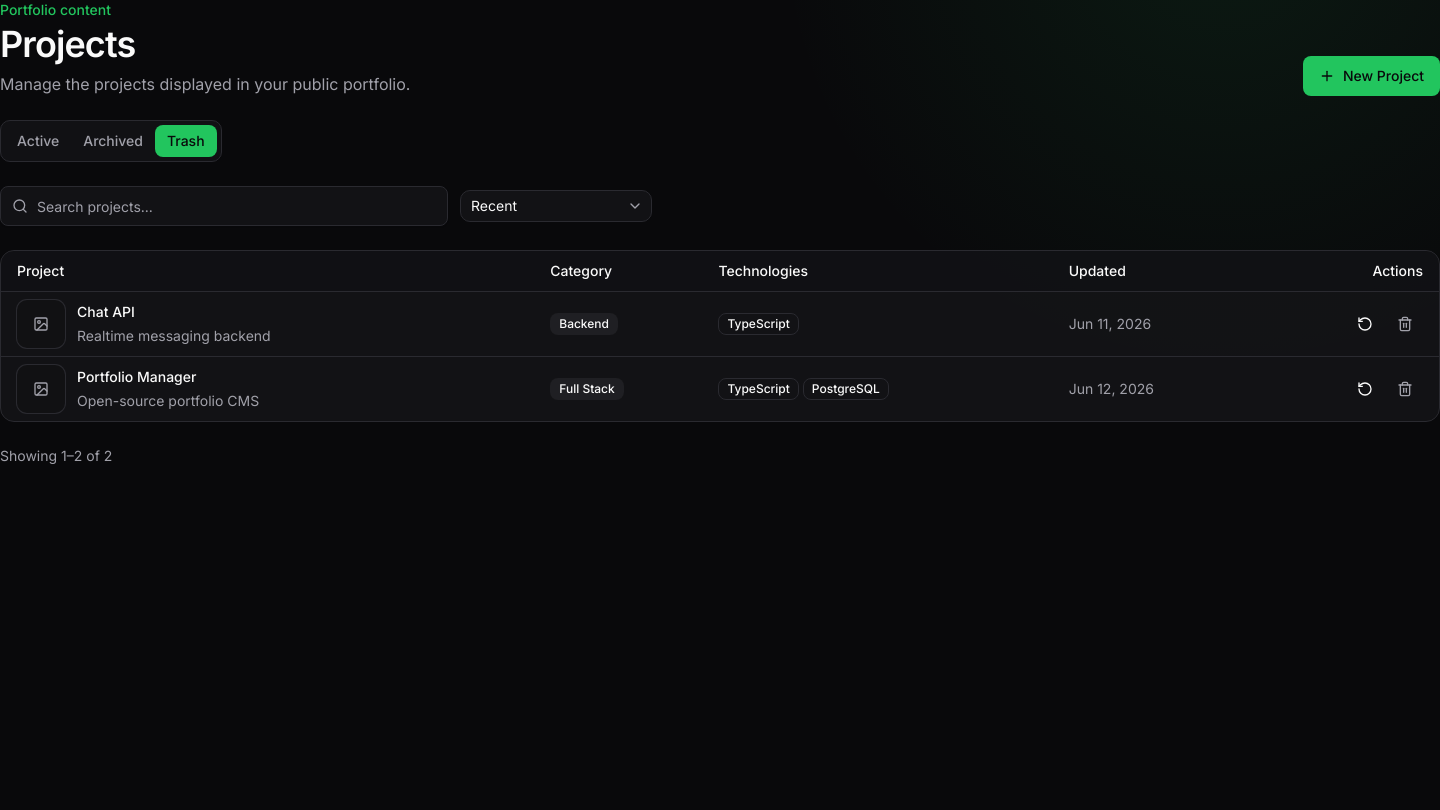
Test case: ProjectsView › keeps the purge dialog open when the request fails
What coordinates should you click on to do the following:
click the button named "Delete Portfolio Manager permanently"
I would click on:
 (1405, 388)
Its box is 1387,370 -> 1423,406.
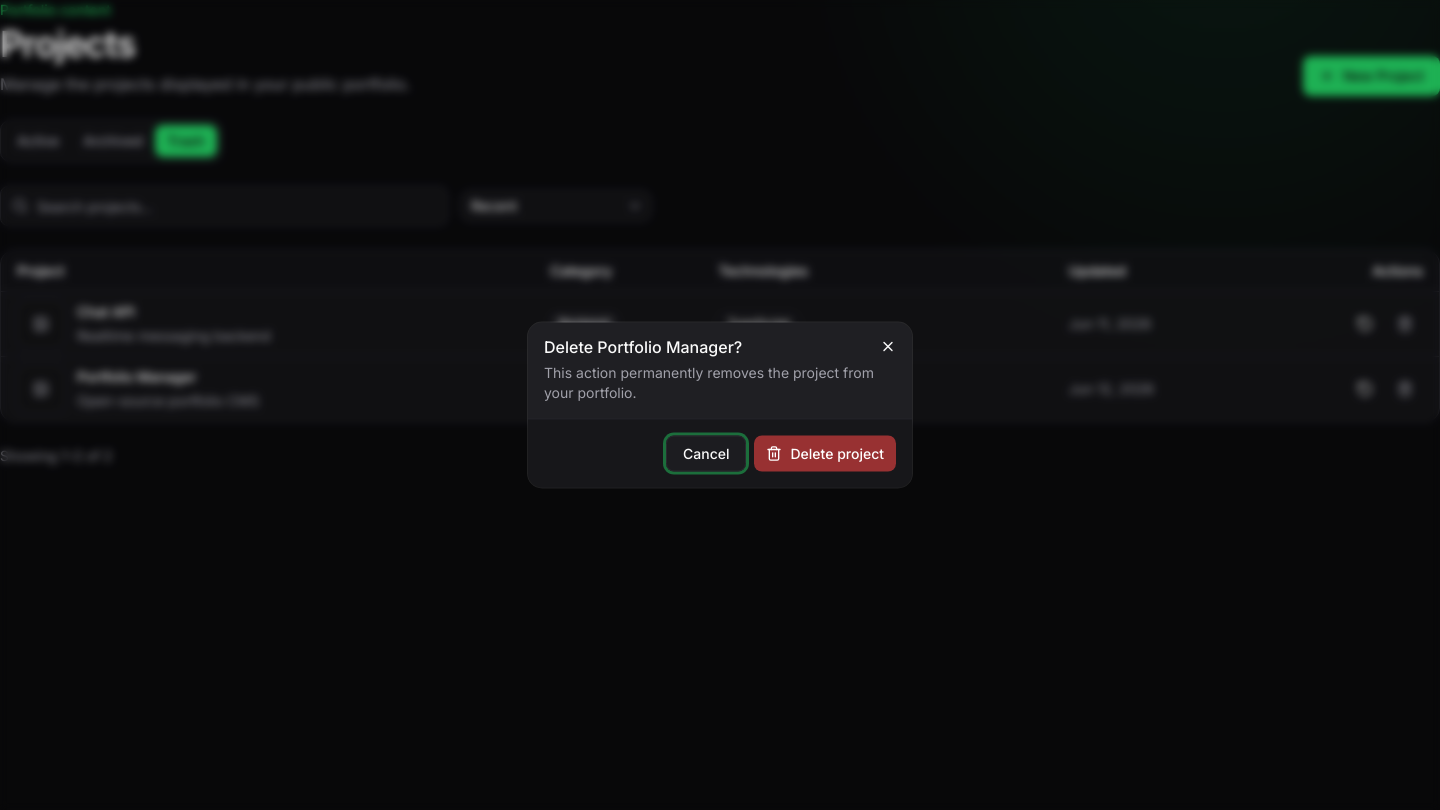
What coordinates should you click on to do the following:
click the button "Delete project"
I would click on:
 (825, 454)
Its box is 754,436 -> 896,472.
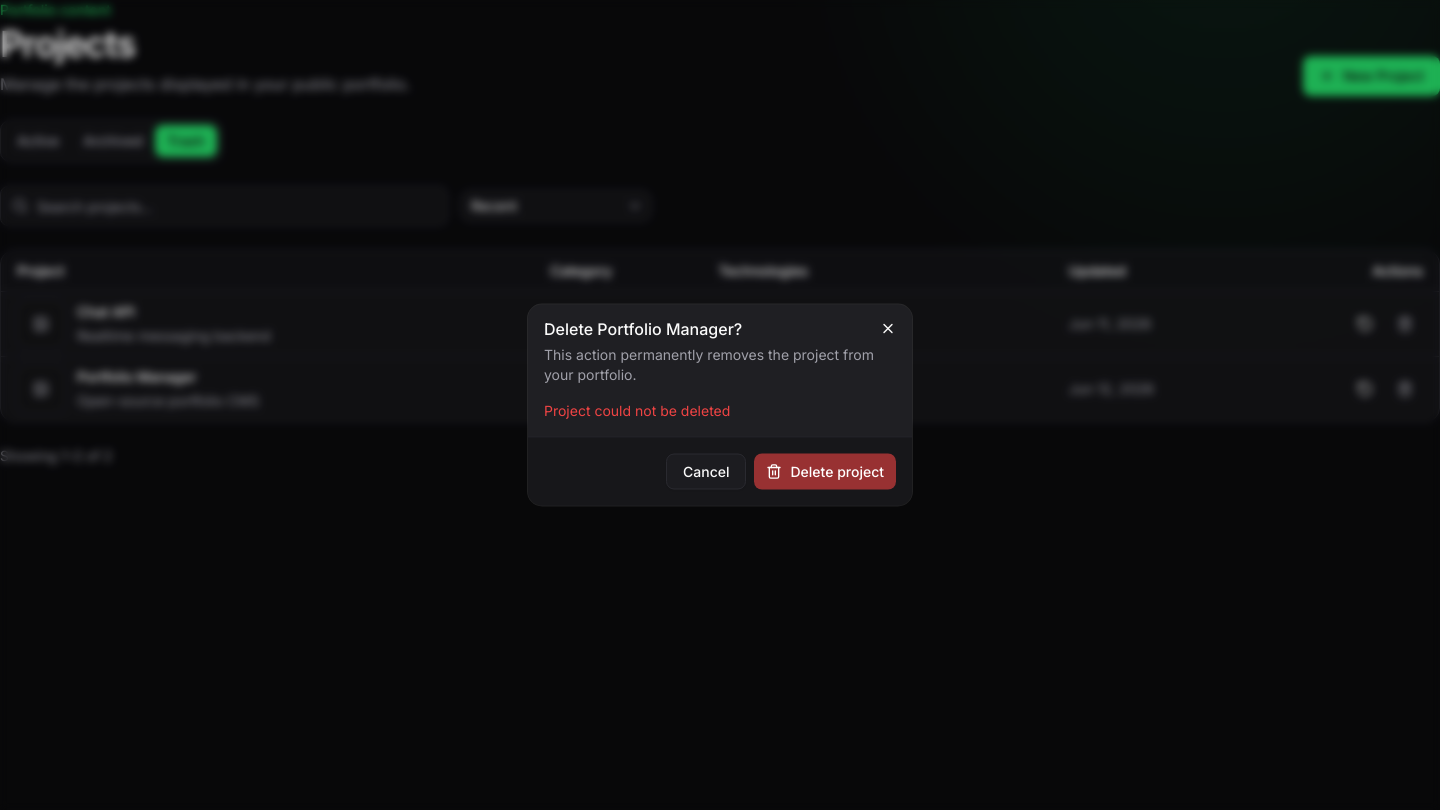
Result: the heading "Delete Portfolio Manager?" is shown at 544,318 -> 742,338
Result: the message reads "Project could not be deleted" at 544,402 -> 730,418
